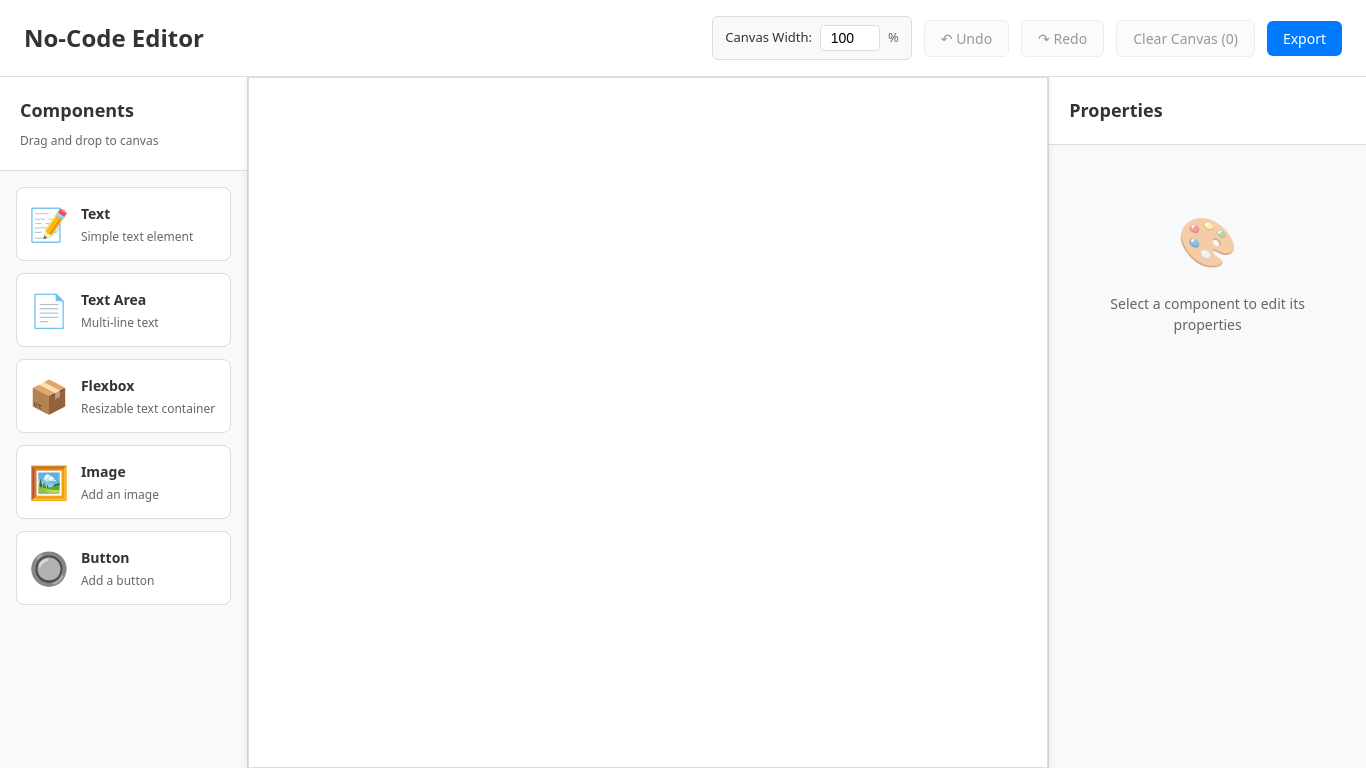
App Component › Export Modal › closes export modal when close button clicked
Open modal
Click the button "Export" at (1304, 38), box [1267, 20, 1342, 56]
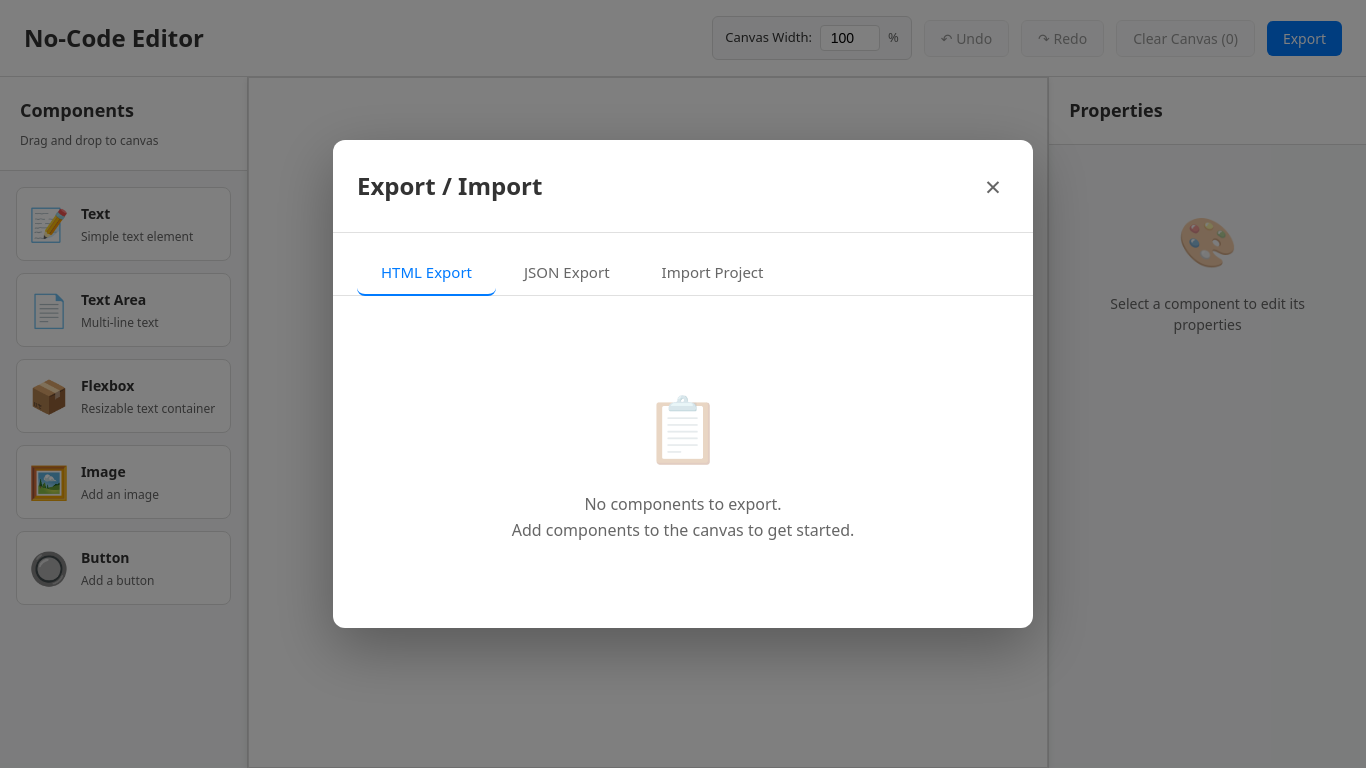
Close modal
Click the button named "Close modal" at (993, 186), box [977, 164, 1009, 208]
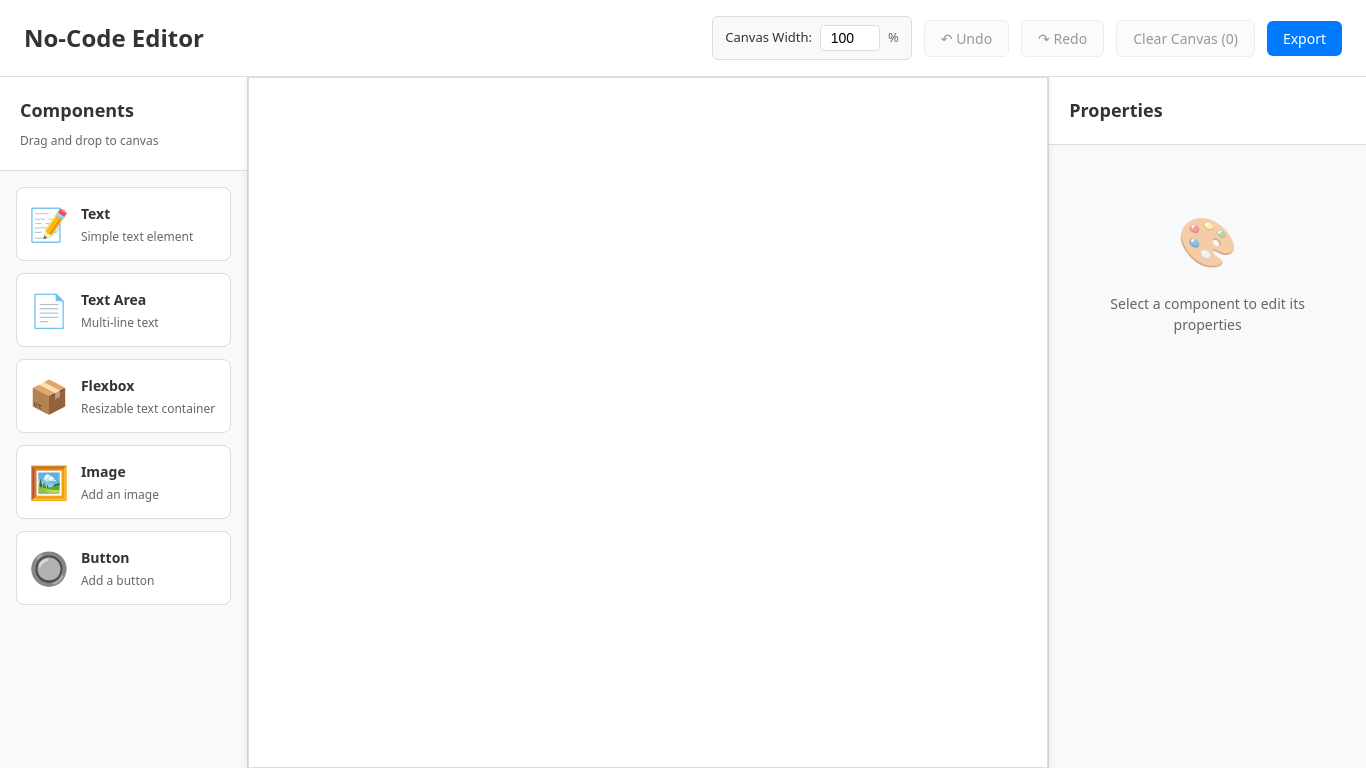
Expected: the button "HTML Export" is gone
